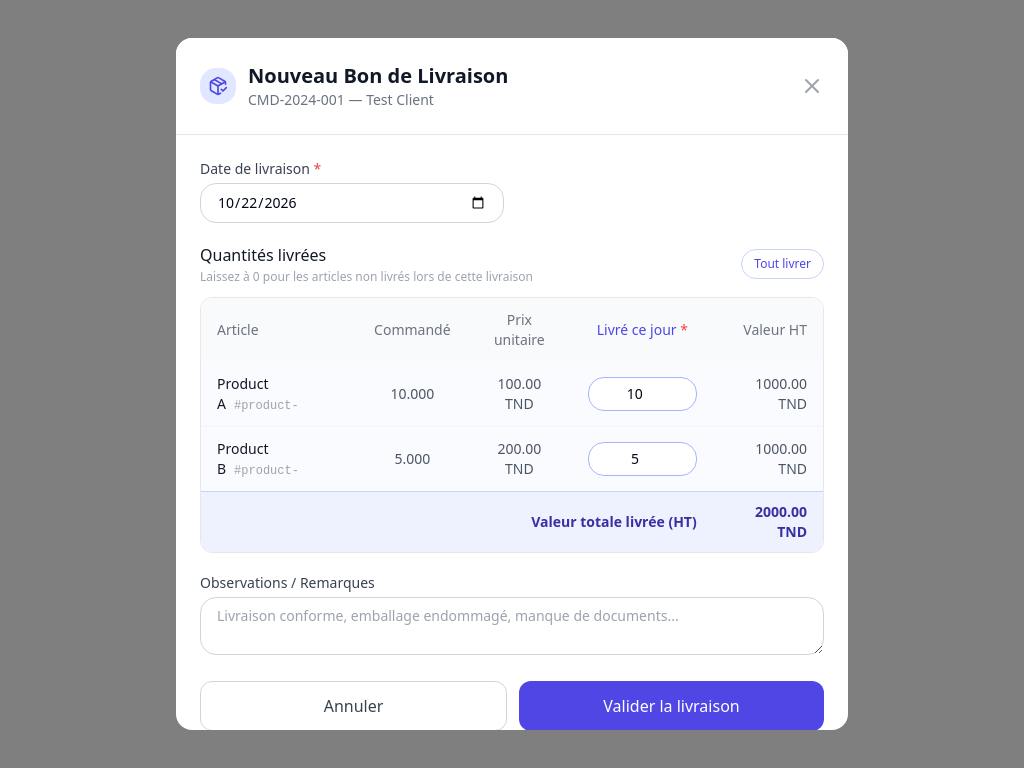
Test: DeliveryNoteFromSalesOrderModal › should disable submit when no items have quantity
Replace the text in the number field in the row of "Product A" with "0" at (642, 394), box [588,377,697,411]
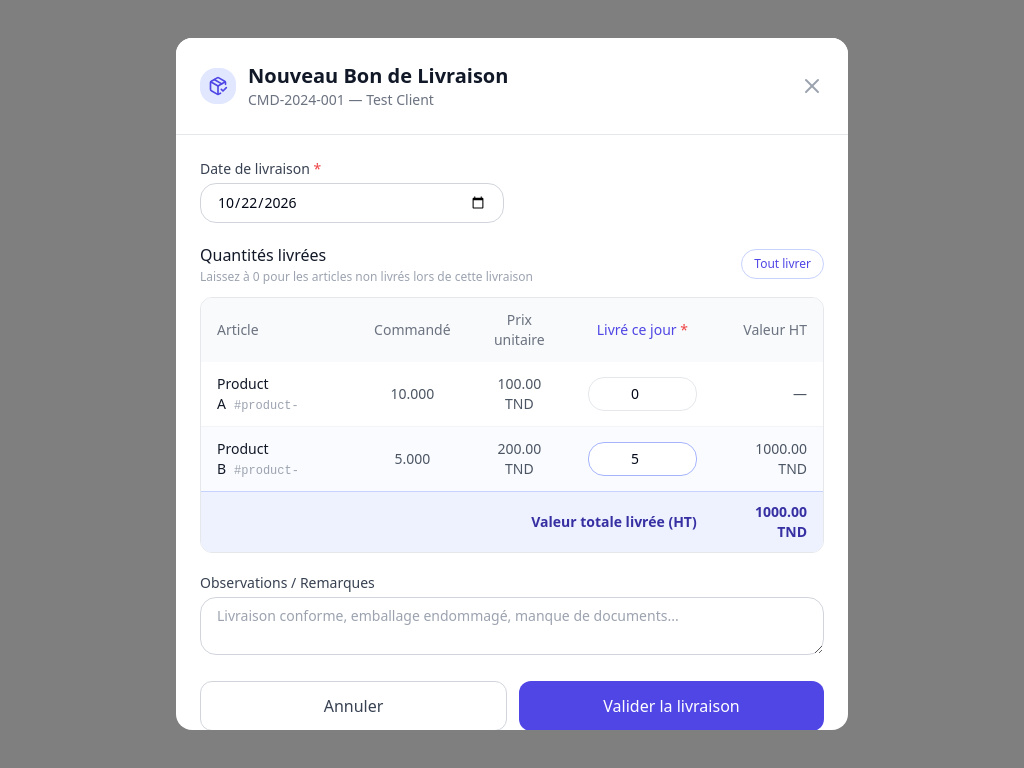
Replace the text in the number field in the row of "Product B" with "0" at (642, 459), box [588,442,697,476]
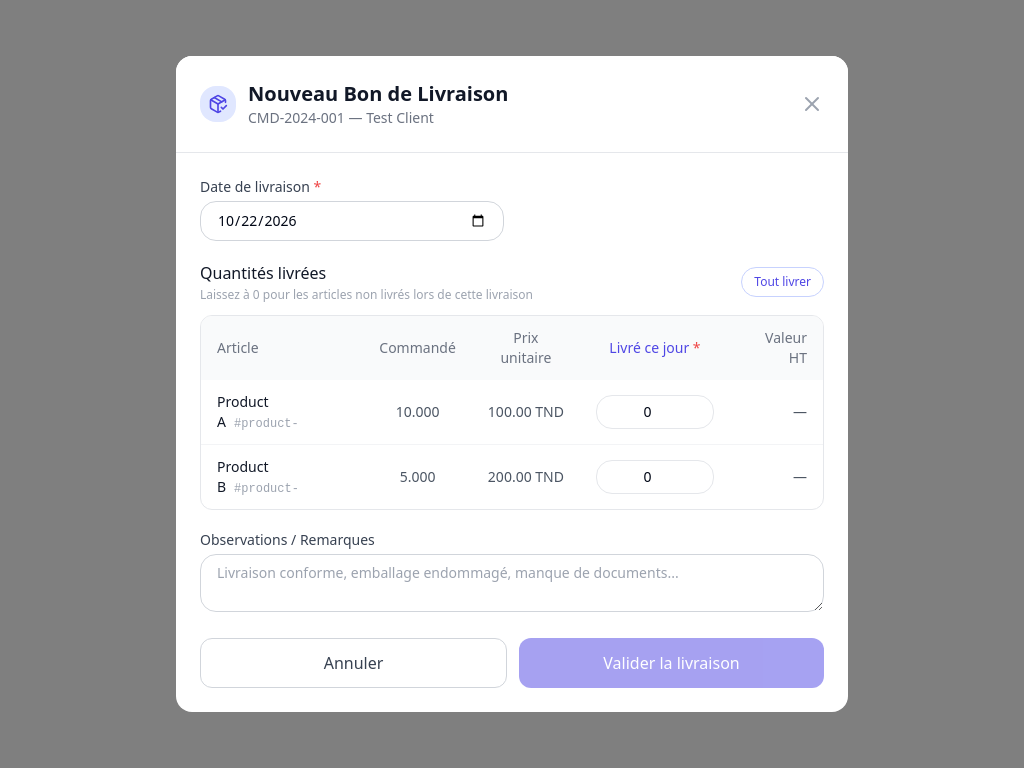
Check: the button "Valider la livraison" is disabled, box [519,638,824,688]
